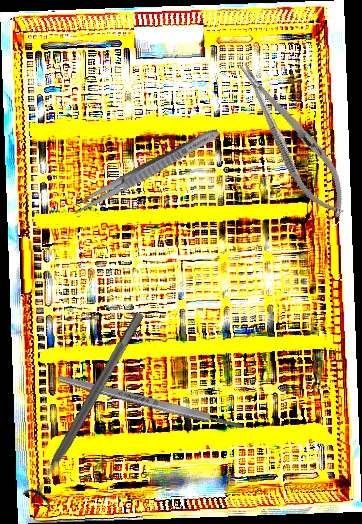Dressing Forceps: (69, 124, 222, 219)
Fixation Ring: (21, 305, 156, 511)
Needle Holder: (224, 51, 361, 228)
Scalpel Handle: (55, 372, 246, 433)
